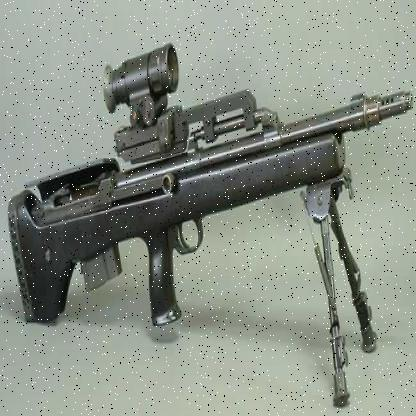rifle: (5, 26, 412, 384)
